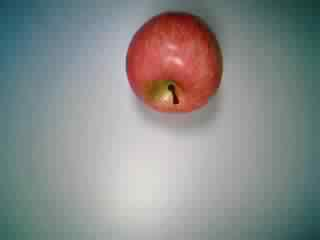apple: (119, 10, 224, 112)
